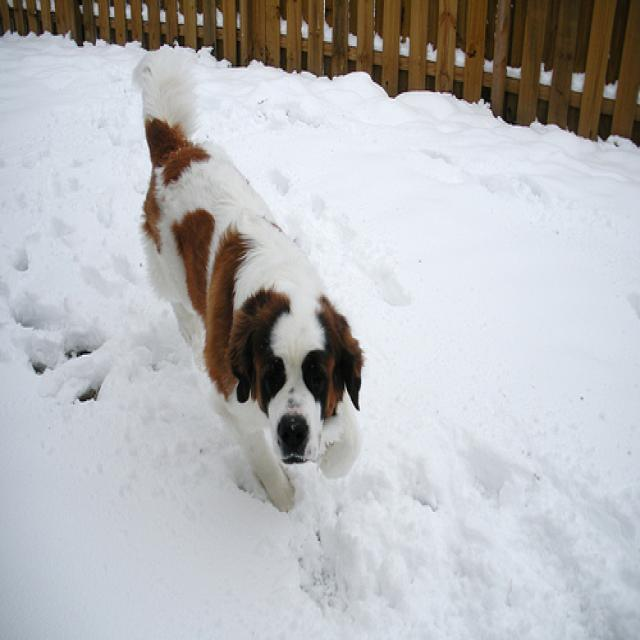dog-saint_bernard: (131, 36, 369, 521)
